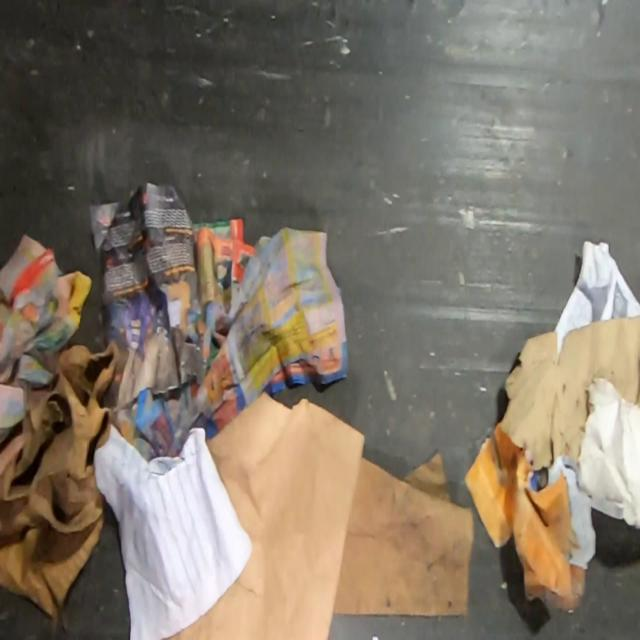cardboard: (158, 388, 366, 640), (0, 338, 121, 626), (462, 425, 587, 613), (498, 313, 640, 471)
